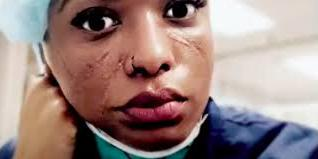mask_weared_incorrect: (70, 1, 210, 157)
